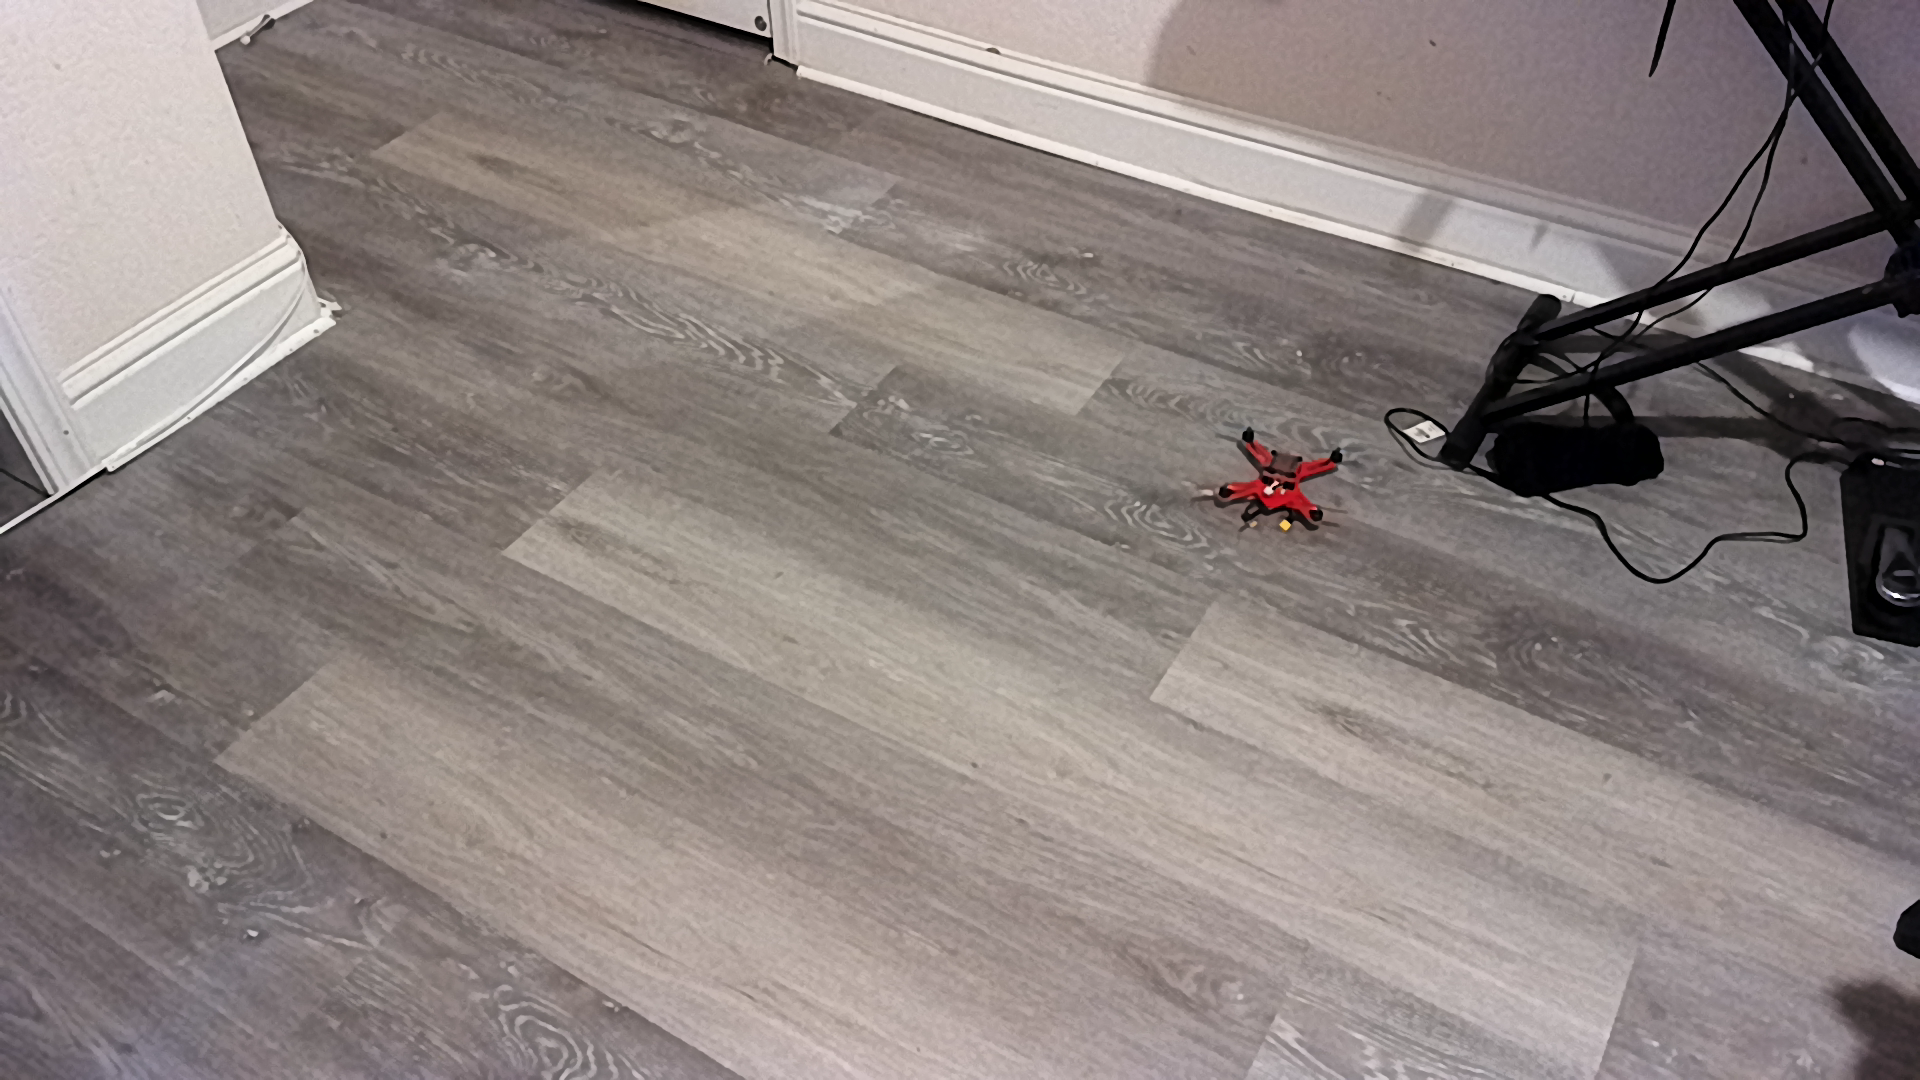drone: (1197, 422, 1391, 550)
